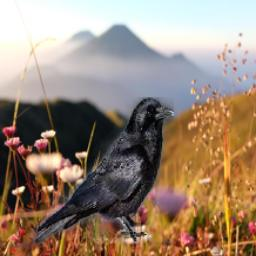Crow: (33, 97, 174, 243)
